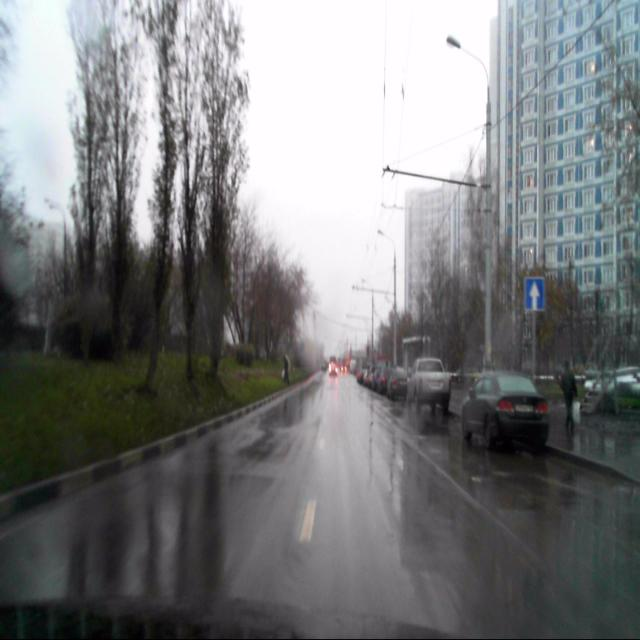road sign: (524, 278, 544, 313)
